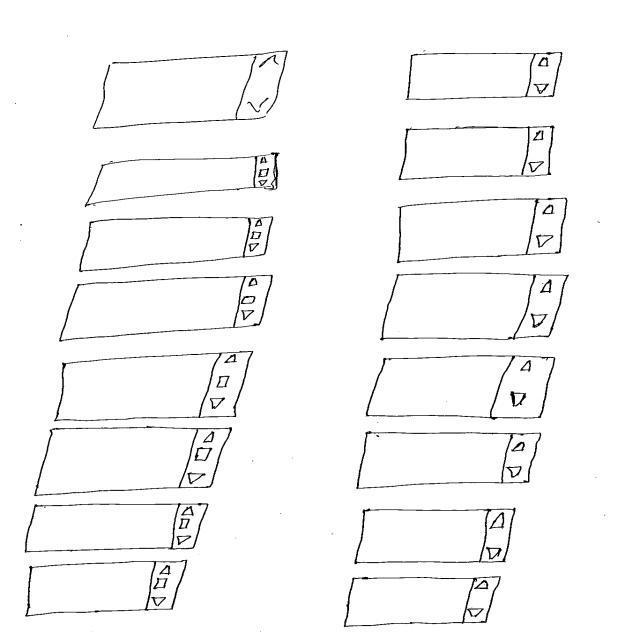textarea: (92, 51, 290, 130), (60, 275, 275, 343), (54, 351, 255, 423), (35, 427, 234, 497), (380, 273, 570, 342), (366, 355, 557, 420), (397, 198, 569, 264), (79, 217, 274, 274), (357, 432, 543, 491), (85, 153, 281, 208), (25, 560, 189, 618), (24, 503, 210, 554), (354, 509, 517, 565), (399, 127, 555, 181), (344, 577, 502, 628), (407, 53, 564, 101)
